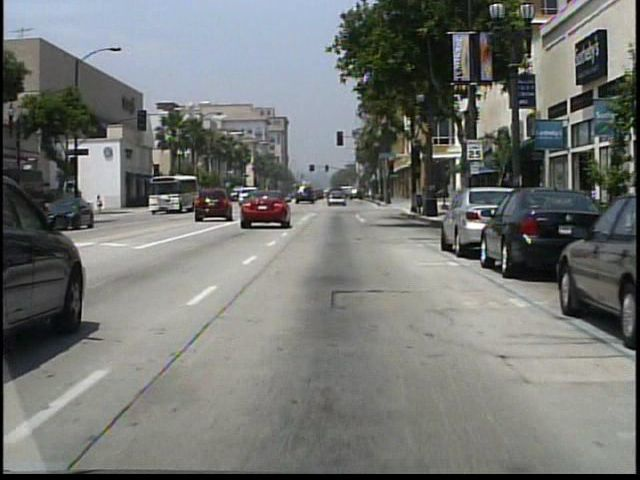person: (96, 194, 104, 216)
